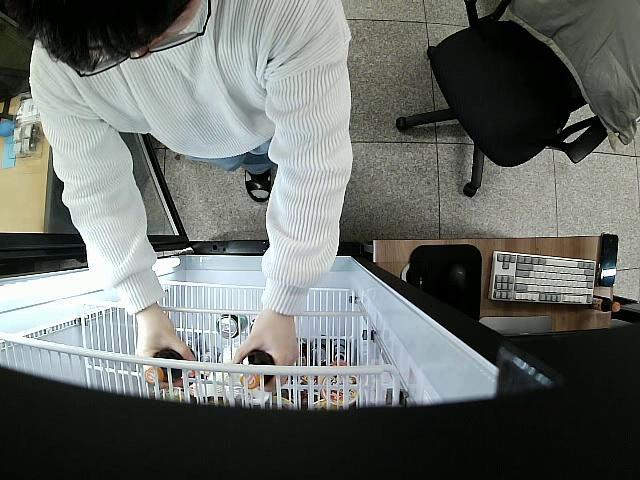17_vita500: (145, 348, 194, 384), (240, 350, 274, 390)
